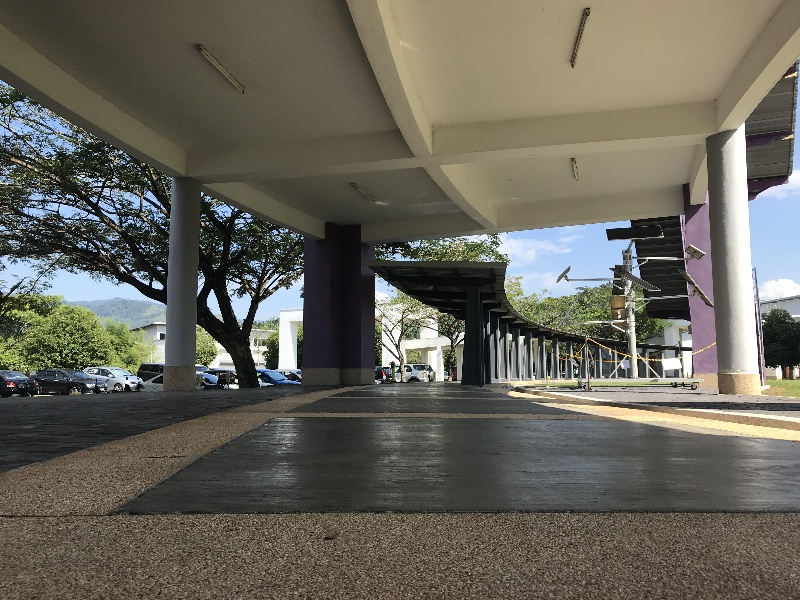pillar: (700, 121, 769, 403), (286, 216, 385, 392), (161, 172, 199, 396), (455, 280, 493, 392)
